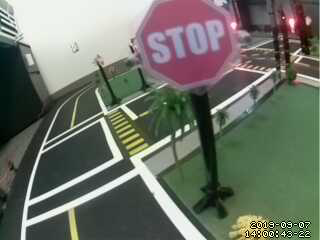Stop_Sign: (132, 3, 244, 95)
